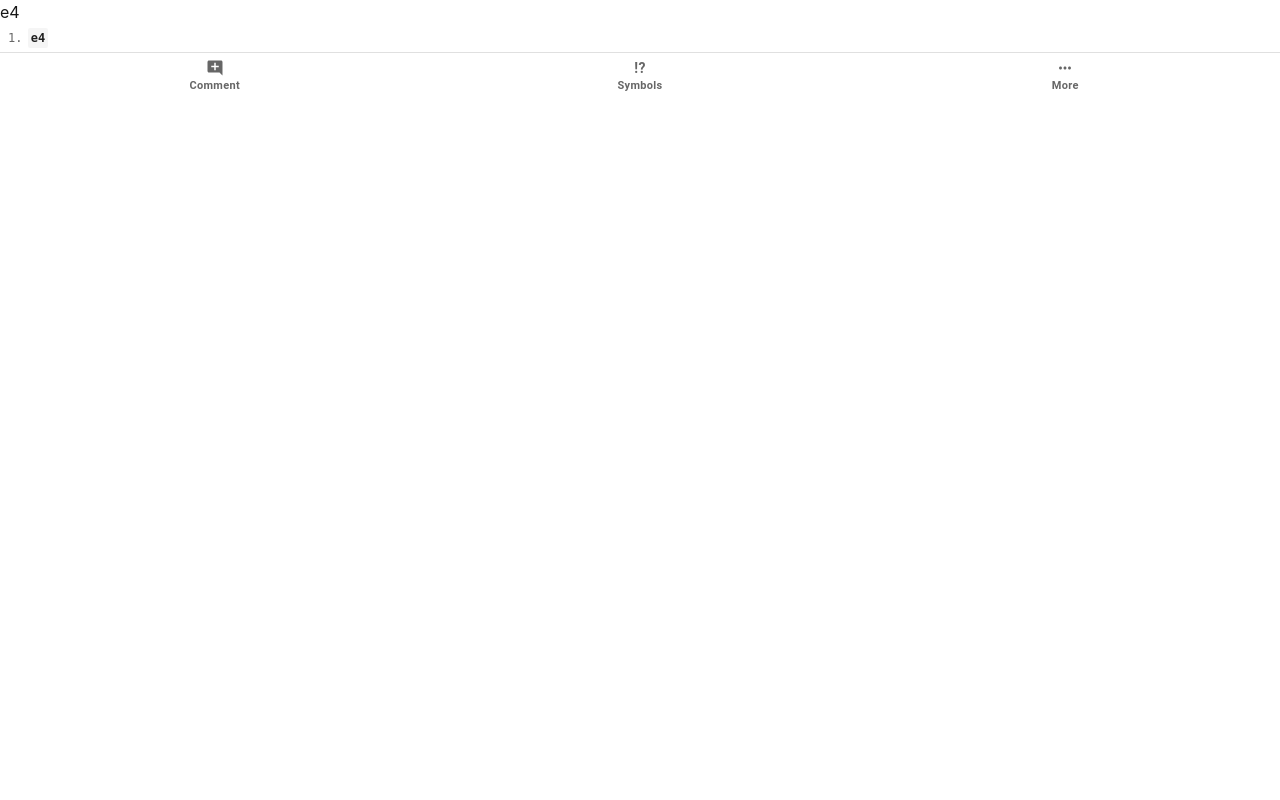
Mobile action sheet › opens the symbol palette in the sheet
Step 1. Click the text "Symbols" → (640, 86), box [618,79,662,92]
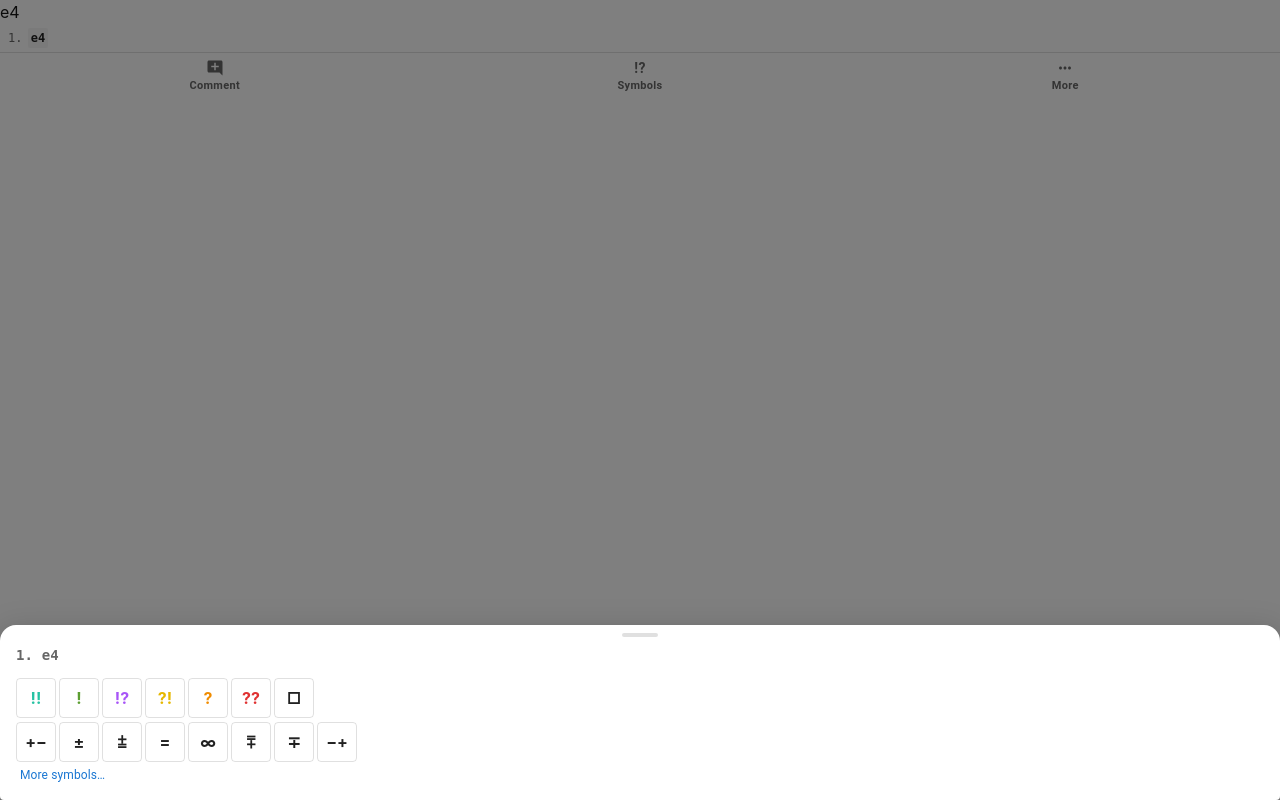
Step 2. Click the button with test id "nag-chip-1" → (79, 698), box [59,678,99,718]
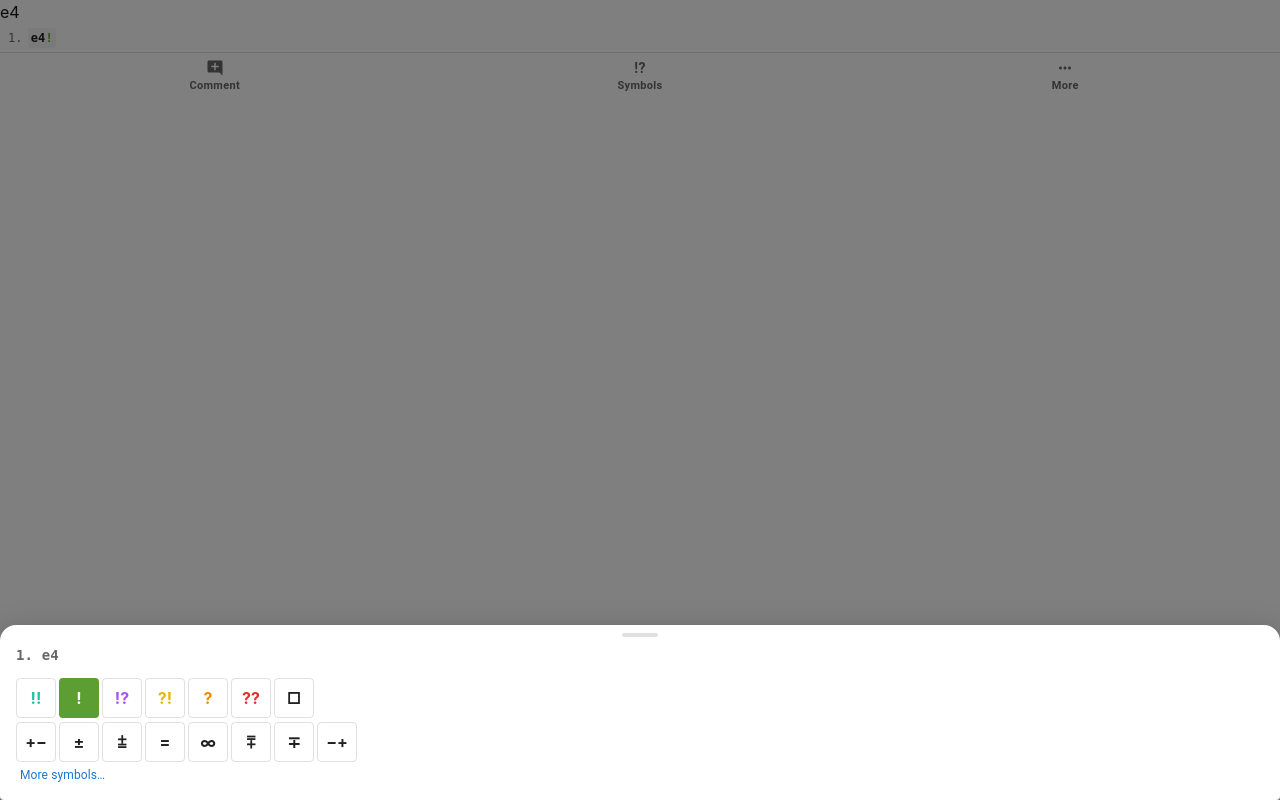
Now the text "e4" reads "e4!", box [28,28,56,48]
